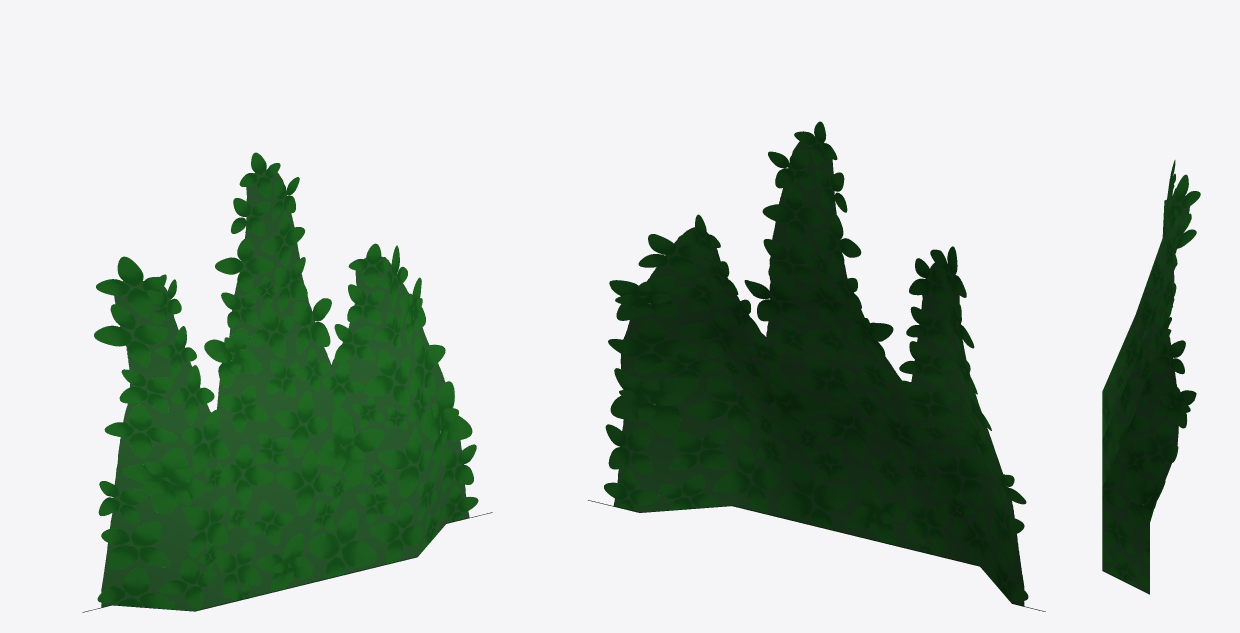
Rendered from Moss02.fbx.
The picture shows the model from 3 angles, left to right: view 1: azimuth 30°, elevation 25°; view 2: azimuth 150°, elevation 25°; view 3: azimuth 270°, elevation 25°; orthographic projection. The views are drawn at different scales.
Parts seen in each view (by area): view 1: Moss02; view 2: Moss02; view 3: Moss02.
Part boxes in pixels (x1,y1,x2,y2): Moss02: (82, 152, 492, 612); Moss02: (588, 121, 1045, 611); Moss02: (1102, 160, 1200, 594).
Bounding box in the file's own units: 200 × 200 × 54.28.
Materials: 1 (1 with a texture image).
